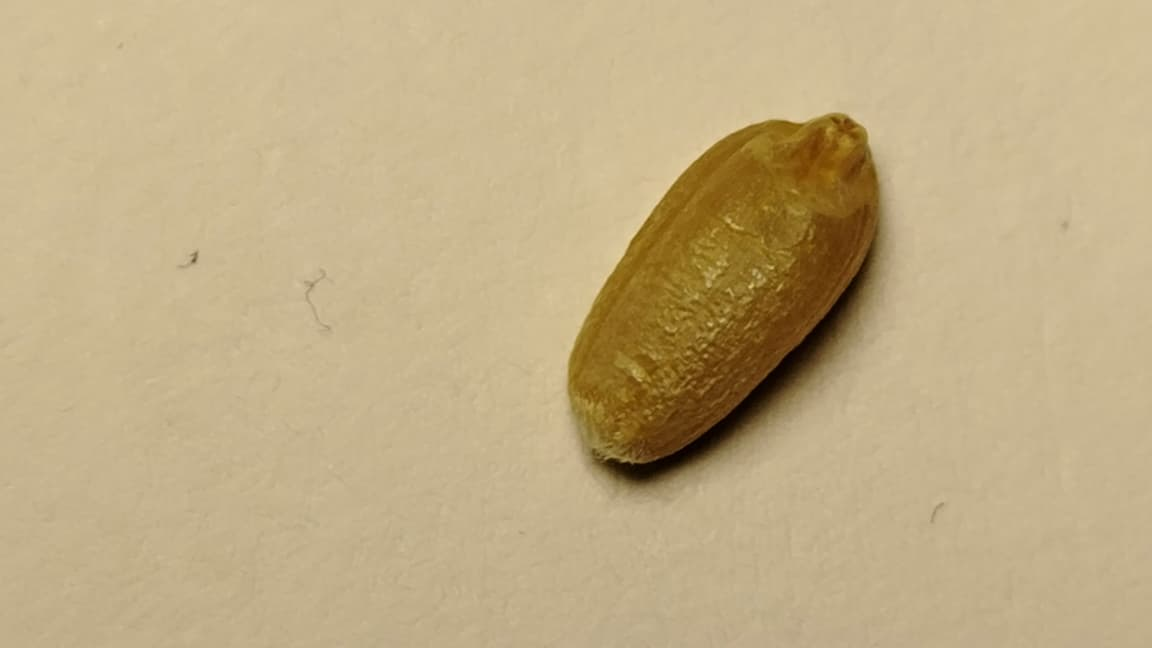healthy: (570, 113, 877, 462)
